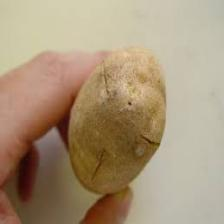Damaged potato: (65, 44, 168, 196)
